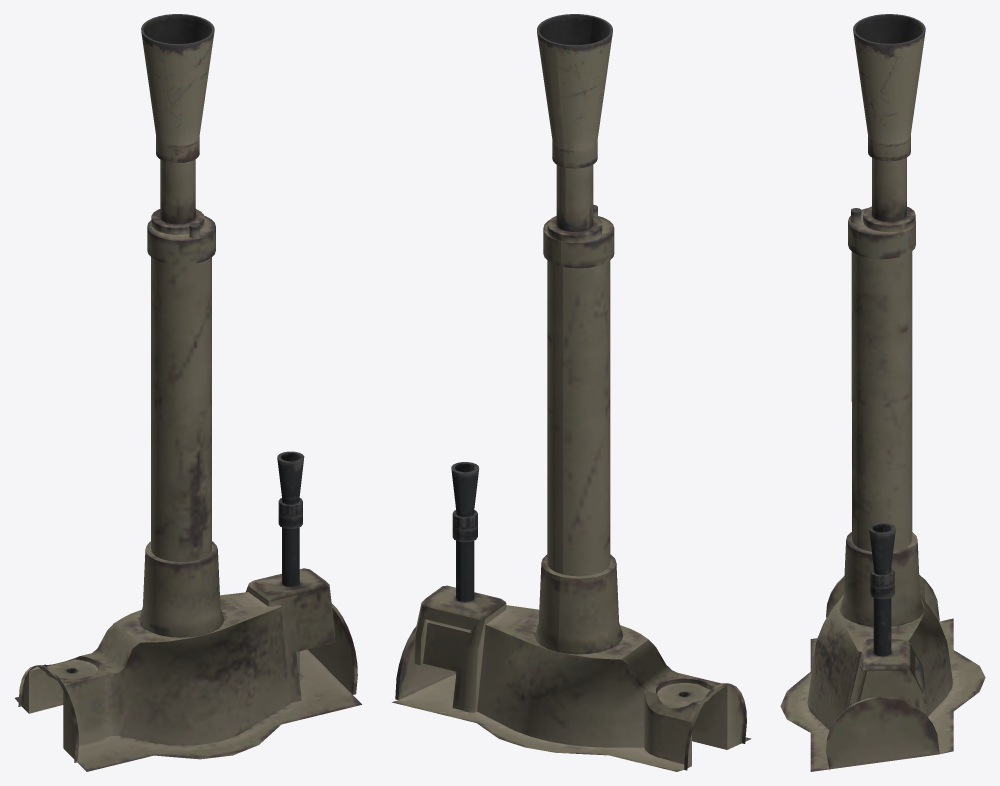
Rendered from Gun_02.glb.
3 renders of one model, left to right at view 1: azimuth 30°, elevation 25°; view 2: azimuth 150°, elevation 25°; view 3: azimuth 270°, elevation 25°, orthographic. The views are drawn at different scales.
Visible parts, largest first — view 1: set_0_group_0; view 2: set_0_group_0; view 3: set_0_group_0.
Part boxes in pixels (box(x1,y1,x2,y2)): set_0_group_0: box(15, 14, 361, 771); set_0_group_0: box(392, 14, 751, 771); set_0_group_0: box(780, 14, 985, 771).
Bounding box in the file's own units: 0.6936 × 1.61 × 0.4427.
1 material, 1 textured.
